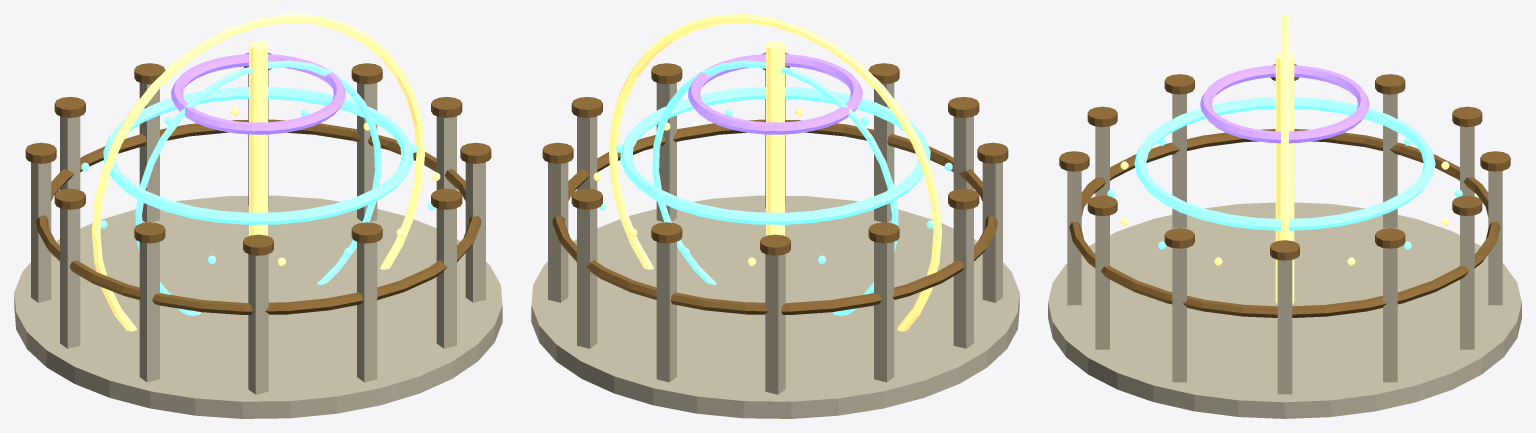
Rendered from 02_meridian_gallery.glb.
3 renders of one model, left to right at view 1: azimuth 30°, elevation 25°; view 2: azimuth 150°, elevation 25°; view 3: azimuth 270°, elevation 25°, orthographic. The views are drawn at different scales.
Visible parts, largest first — view 1: gallery_floor_nocol, gallery_orbit_16_nocol, gallery_orbit_11_nocol, gallery_vertical_orbit_a_nocol, gallery_orbit_6_nocol, gallery_vertical_orbit_b_nocol, gallery_meridian_needle_nocol, gallery_column_8_nocol, gallery_column_9_nocol, gallery_column_7_nocol, gallery_column_10_nocol, gallery_column_6_nocol (+17 smaller); view 2: gallery_floor_nocol, gallery_orbit_16_nocol, gallery_orbit_11_nocol, gallery_vertical_orbit_a_nocol, gallery_orbit_6_nocol, gallery_vertical_orbit_b_nocol, gallery_meridian_needle_nocol, gallery_column_4_nocol, gallery_column_3_nocol, gallery_column_5_nocol, gallery_column_2_nocol, gallery_column_6_nocol (+17 smaller); view 3: gallery_floor_nocol, gallery_orbit_16_nocol, gallery_orbit_11_nocol, gallery_orbit_6_nocol, gallery_meridian_needle_nocol, gallery_column_0_nocol, gallery_column_1_nocol, gallery_column_11_nocol, gallery_column_2_nocol, gallery_column_10_nocol, gallery_vertical_orbit_a_nocol, gallery_column_3_nocol (+16 smaller).
Part boxes in pixels (<box>): gallery_floor_nocol: <box>14,195,502,418</box>; gallery_orbit_16_nocol: <box>36,119,481,314</box>; gallery_orbit_11_nocol: <box>103,86,413,224</box>; gallery_vertical_orbit_a_nocol: <box>92,14,424,331</box>; gallery_orbit_6_nocol: <box>171,54,345,134</box>; gallery_vertical_orbit_b_nocol: <box>135,60,381,315</box>; gallery_meridian_needle_nocol: <box>249,41,267,235</box>; gallery_column_8_nocol: <box>248,254,268,394</box>; gallery_column_9_nocol: <box>357,242,377,382</box>; gallery_column_7_nocol: <box>139,242,159,382</box>; gallery_column_10_nocol: <box>436,208,456,348</box>; gallery_column_6_nocol: <box>60,208,80,348</box>; gallery_floor_nocol: <box>531,195,1019,418</box>; gallery_orbit_16_nocol: <box>552,119,997,314</box>; gallery_orbit_11_nocol: <box>620,86,930,224</box>; gallery_vertical_orbit_a_nocol: <box>609,14,941,331</box>; gallery_orbit_6_nocol: <box>688,54,862,134</box>; gallery_vertical_orbit_b_nocol: <box>652,60,898,315</box>; gallery_meridian_needle_nocol: <box>766,41,784,235</box>; gallery_column_4_nocol: <box>765,254,785,394</box>; gallery_column_3_nocol: <box>656,242,676,382</box>; gallery_column_5_nocol: <box>874,242,894,382</box>; gallery_column_2_nocol: <box>577,208,597,348</box>; gallery_column_6_nocol: <box>953,208,973,348</box>; gallery_floor_nocol: <box>1048,202,1521,418</box>; gallery_orbit_16_nocol: <box>1069,129,1500,317</box>; gallery_orbit_11_nocol: <box>1134,97,1435,230</box>; gallery_orbit_6_nocol: <box>1200,65,1369,143</box>; gallery_meridian_needle_nocol: <box>1275,53,1294,304</box>; gallery_column_0_nocol: <box>1277,260,1292,394</box>; gallery_column_1_nocol: <box>1383,248,1397,382</box>; gallery_column_11_nocol: <box>1172,248,1186,382</box>; gallery_column_2_nocol: <box>1460,215,1474,349</box>; gallery_column_10_nocol: <box>1095,215,1109,349</box>; gallery_vertical_orbit_a_nocol: <box>1281,14,1288,240</box>; gallery_column_3_nocol: <box>1488,171,1502,305</box>.
Size of the model in its own units: 36 by 28.32 by 36.
